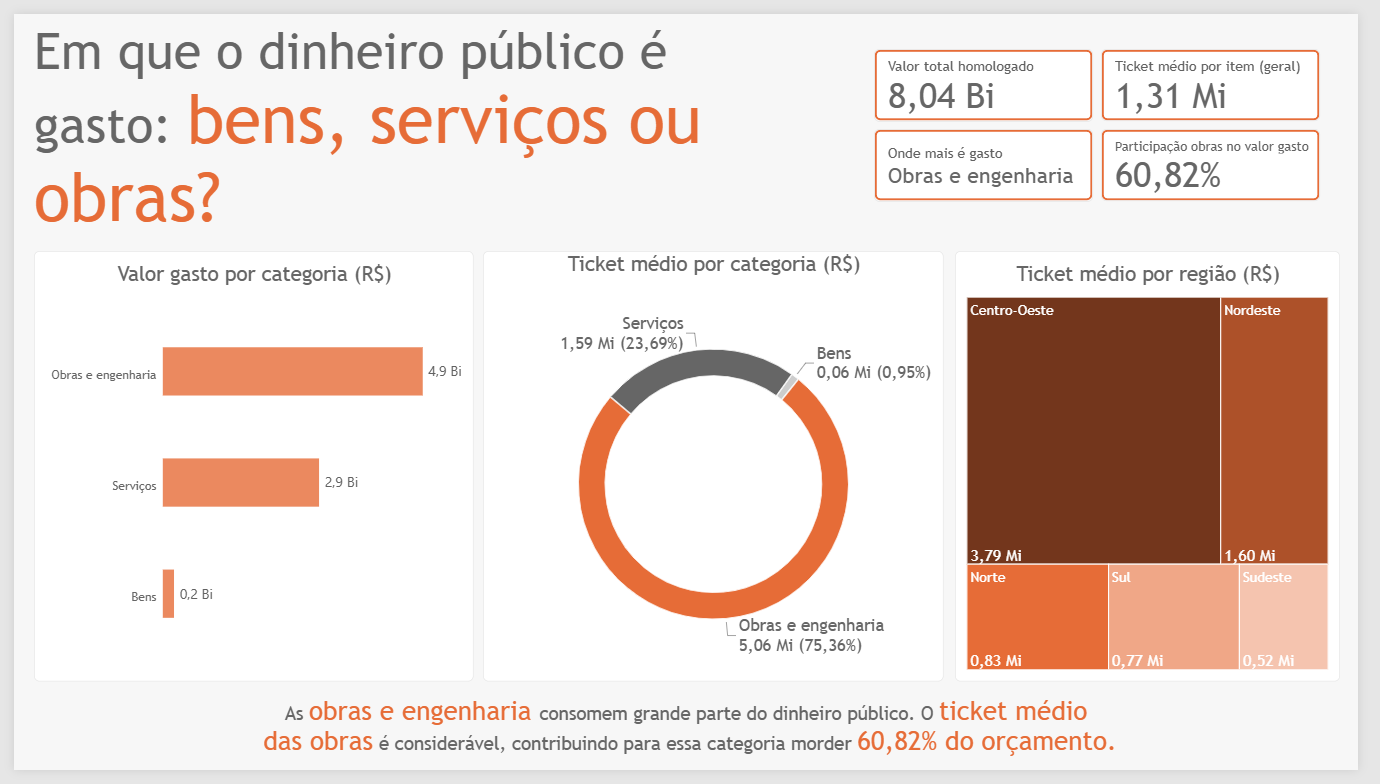

What the dashboard file says about the page in this screenshot:
{"tool":"powerbi","page":{"name":"Perfil","canvas":[1920,1080],"ordinal":5},"visuals":[{"type":"textbox","box":[28,9.3,1098.4,405.8],"z":0},{"type":"textbox","box":[0,973.3,1920,93.3],"z":1000},{"type":"cardVisual","title":" Economia","fields":{"Data":["Min(pncp_controladoria fato_item_contratado.perfil_gasto)"]},"box":[1228.3,165,313,103.6],"z":3000},{"type":"clusteredBarChart","title":"Valor gasto por categoria (R$)","fields":{"Category":["pncp_controladoria fato_item_contratado.perfil_gasto"],"Y":["_Medidas.volume_homologado"]},"box":[28.3,338.3,628.3,615],"z":4000},{"type":"cardVisual","fields":{"Data":["_Medidas.ticket_medio_por_item(R$)"]},"box":[1553.3,50,313.3,103.3],"z":5000},{"type":"cardVisual","fields":{"Data":["_Medidas.volume_homologado"]},"box":[1228.3,50,313,103.6],"z":6000},{"type":"cardVisual","title":" Economia","fields":{"Data":["_Medidas.Percentual_Obras"]},"box":[1553.3,165,313,103],"z":7000},{"type":"treemap","title":"Ticket médio por região (R$)","fields":{"Group":["pncp_controladoria dim_localidade.regiao"],"Values":["_Medidas.ticket_medio_por_item(R$)"]},"box":[1345,338.3,550,615],"z":8000},{"type":"donutChart","title":"Ticket médio por categoria (R$)","fields":{"Category":["pncp_controladoria fato_item_contratado.perfil_gasto"],"Y":["_Medidas.ticket_medio_por_item(R$)"]},"box":[670,338.3,658.3,615],"z":9000}]}

Visuals, with their boxes in screenshot pixels (x1, y1, x2, y2), scaled from the page's 1920x1080 canvas onto the 1380x784 screenshot:
textbox: region(20, 7, 810, 301)
textbox: region(0, 707, 1379, 774)
" Economia" cardVisual: region(883, 120, 1108, 195)
"Valor gasto por categoria (R$)" clusteredBarChart: region(20, 246, 472, 692)
cardVisual - _Medidas.ticket_medio_por_item(R$): region(1116, 36, 1342, 111)
cardVisual - _Medidas.volume_homologado: region(883, 36, 1108, 112)
" Economia" cardVisual: region(1116, 120, 1341, 195)
"Ticket médio por região (R$)" treemap: region(967, 246, 1362, 692)
"Ticket médio por categoria (R$)" donutChart: region(482, 246, 955, 692)
